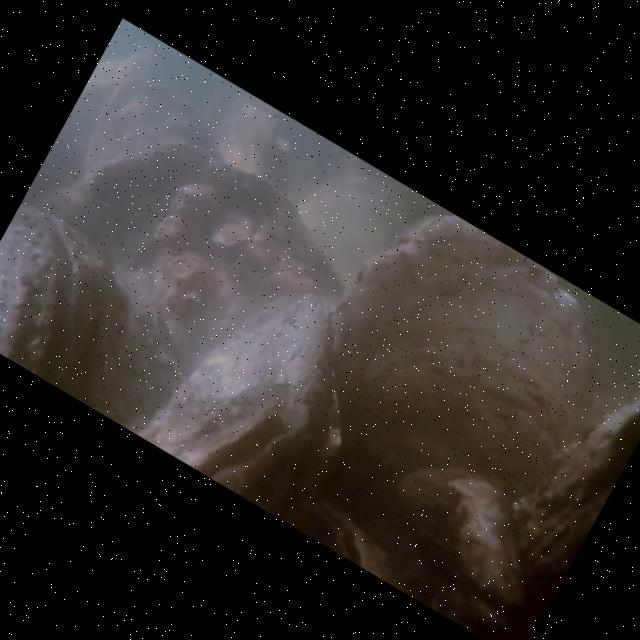Oyster-Closed: (136, 285, 338, 489), (0, 198, 131, 403)
Oyster-Indeterminate: (33, 145, 345, 436), (330, 212, 593, 520), (380, 460, 538, 640), (283, 155, 413, 281), (82, 72, 221, 167), (319, 498, 393, 582), (224, 93, 285, 184)
